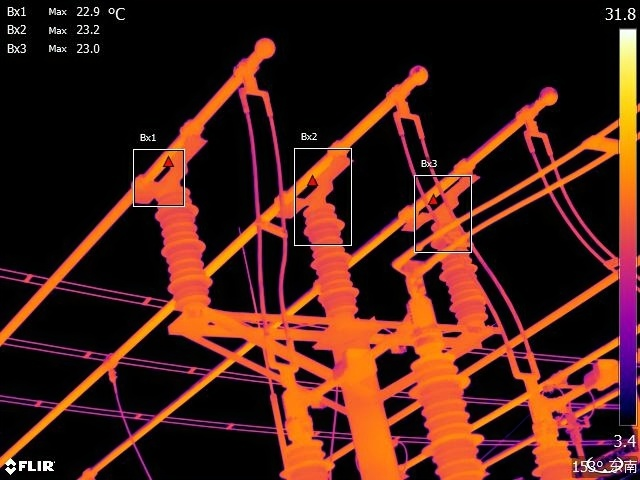clamp: (224, 53, 275, 102), (382, 74, 425, 125), (508, 97, 553, 134), (91, 343, 124, 379)
post insulator: (409, 356, 495, 480), (150, 182, 216, 307), (302, 202, 362, 308), (434, 223, 488, 322), (277, 419, 339, 480), (523, 416, 576, 480)
switch: (278, 302, 447, 417), (526, 356, 619, 421)
